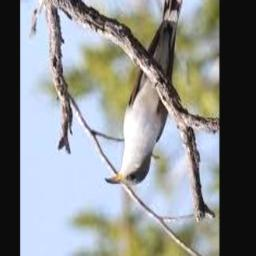Cuckoo: (105, 0, 187, 185)
